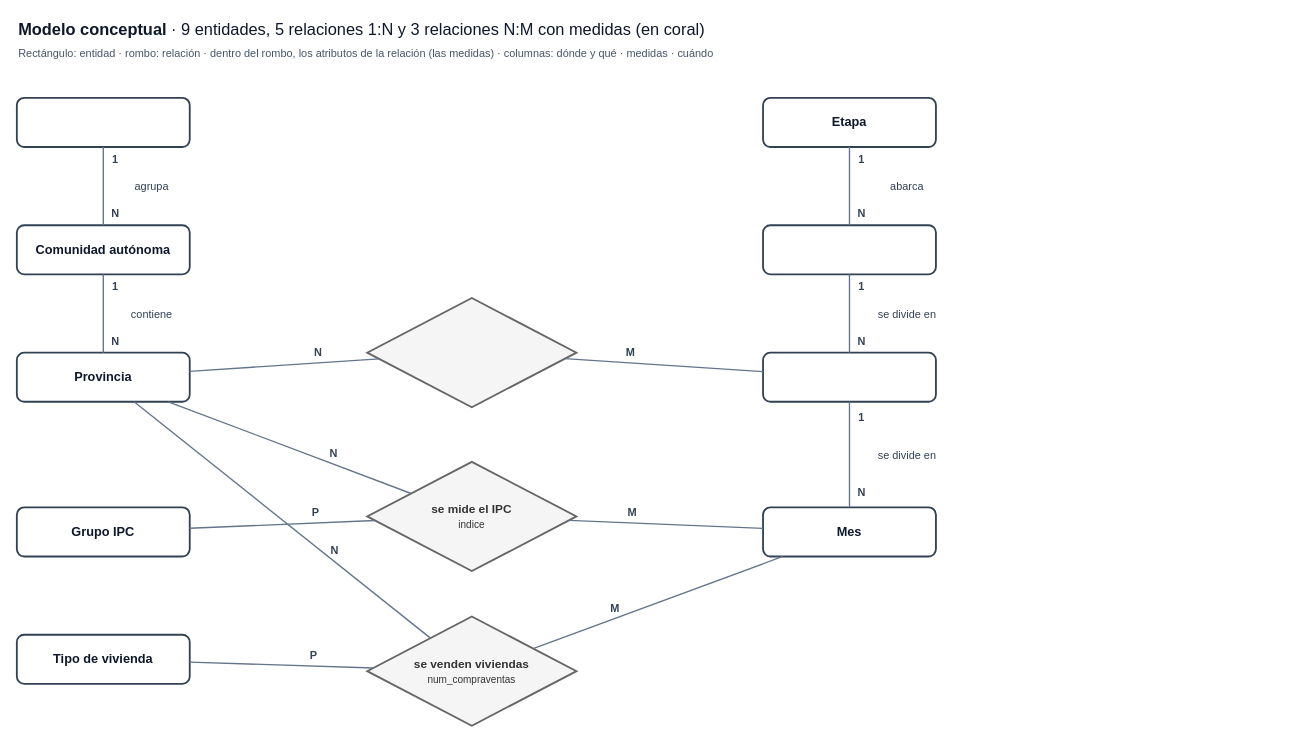
Some shapes in this 1306 by 742 pixel diagram are drawn without their labels. The shapes that lost their labels are listed below. From the top down, each one's centre as x and y in pixels, then its label:
the point at 102,121: Zona
the point at 849,249: Año
the point at 471,352: se compra suelo precio_m2 num_transacciones
the point at 849,376: Trimestre
